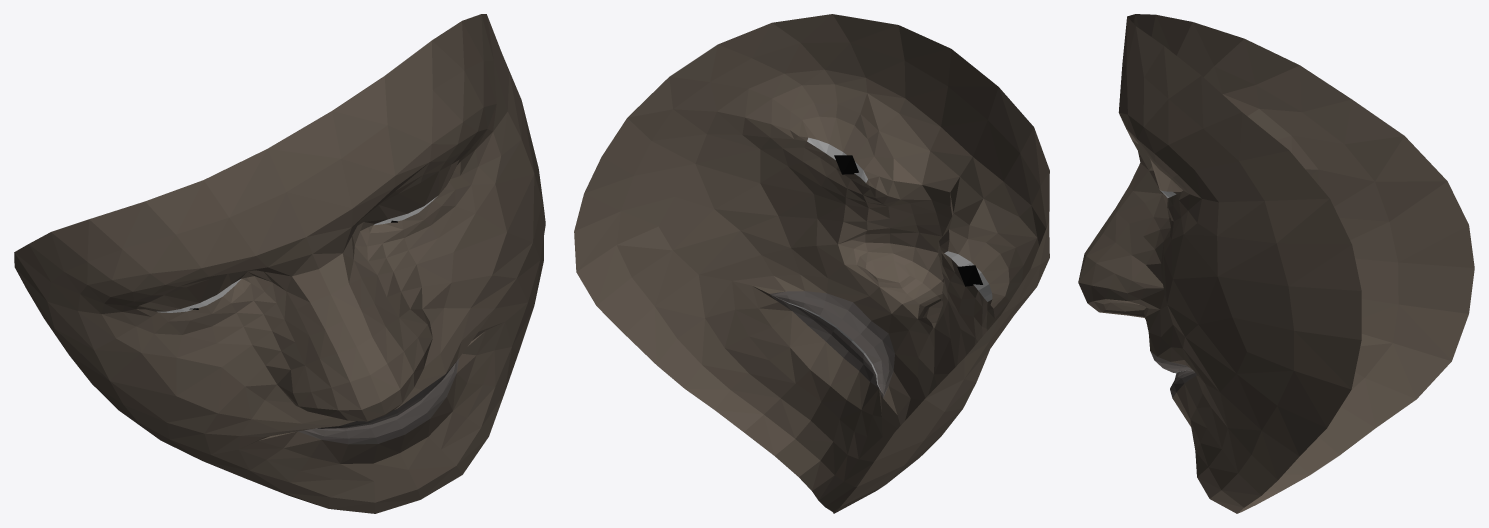
The model's file is frame_00256.obj.
3 renders of one model, left to right at view 1: azimuth 30°, elevation 25°; view 2: azimuth 150°, elevation 25°; view 3: azimuth 270°, elevation 25°, orthographic. The views are drawn at different scales.
Parts seen in each view (by area): view 1: face_model_with_iris; view 2: face_model_with_iris; view 3: face_model_with_iris.
Boxes of the visible parts, left/top/right/bottom form: face_model_with_iris: left=14, top=14, right=545, bottom=513; face_model_with_iris: left=574, top=14, right=1049, bottom=513; face_model_with_iris: left=1078, top=14, right=1474, bottom=513.
Bounding box in the file's own units: 0.5627 × 0.5369 × 0.4161.
